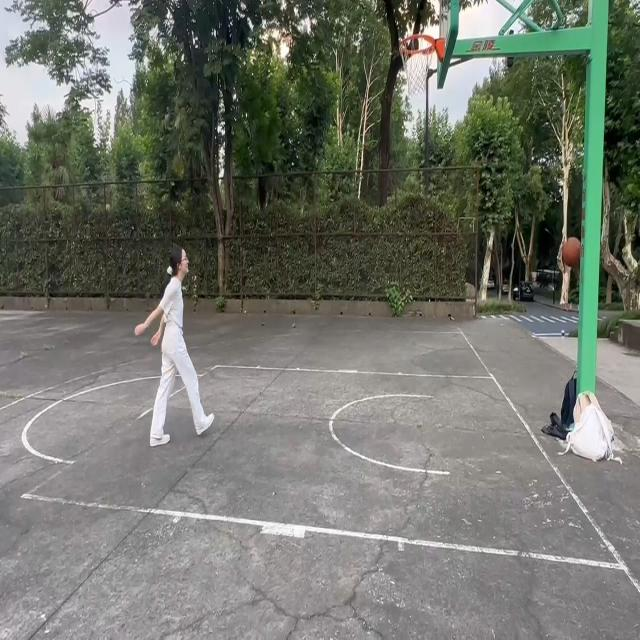basketball: (398, 36, 438, 98)
rim: (562, 237, 582, 266)
